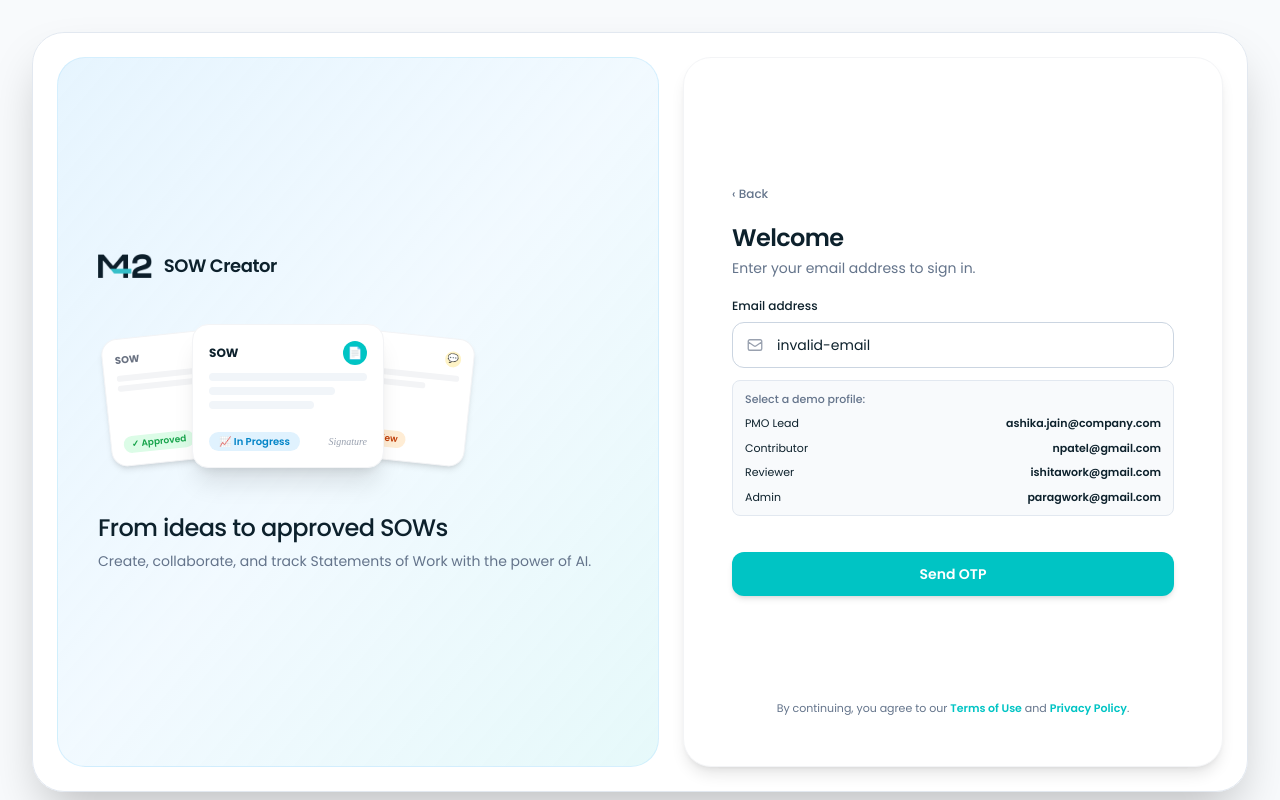
it: LoginScreen Organism › shows error when invalid email format is entered
Click the button "Send OTP": [953, 574] box [732,552,1174,596]
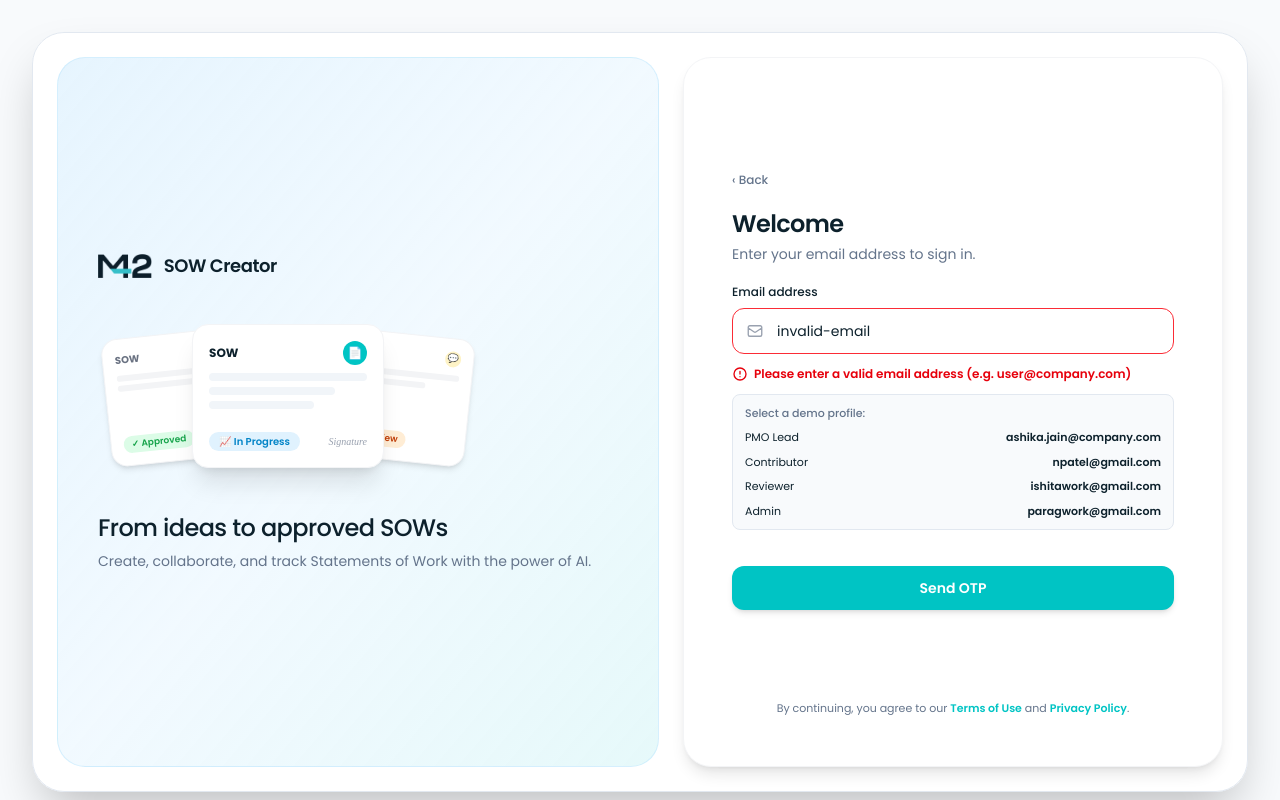
Result: the text "Please enter a valid email address (e.g. user@company.com)" is shown at [754,366,1131,382]
